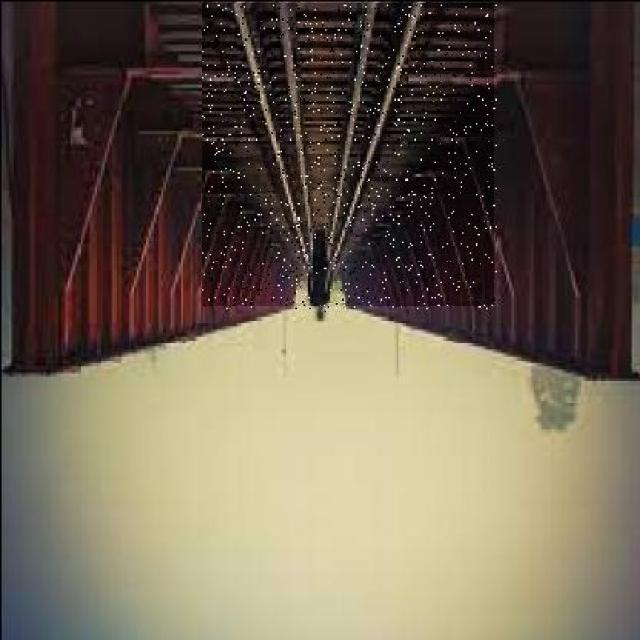rail: (203, 4, 495, 307)
